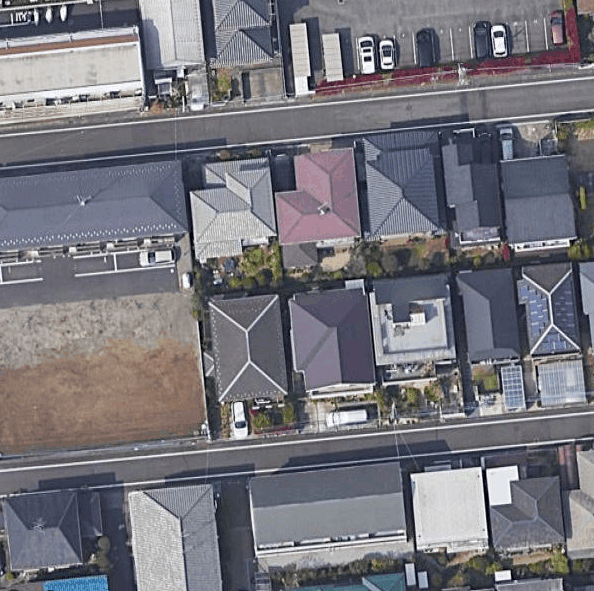flatroof: (0, 29, 142, 107)
parkinglot: (342, 0, 567, 78)
solarpanel_slope: (516, 265, 579, 354)
